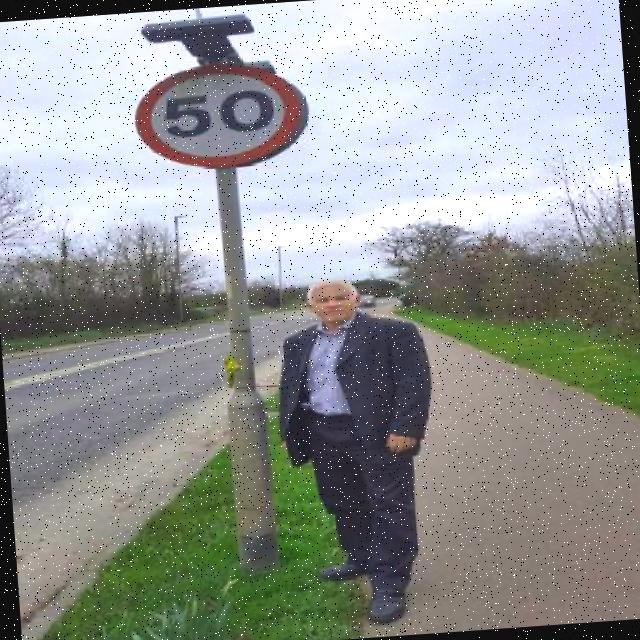Ograniczenie predkosci do 50: (134, 56, 304, 174)
